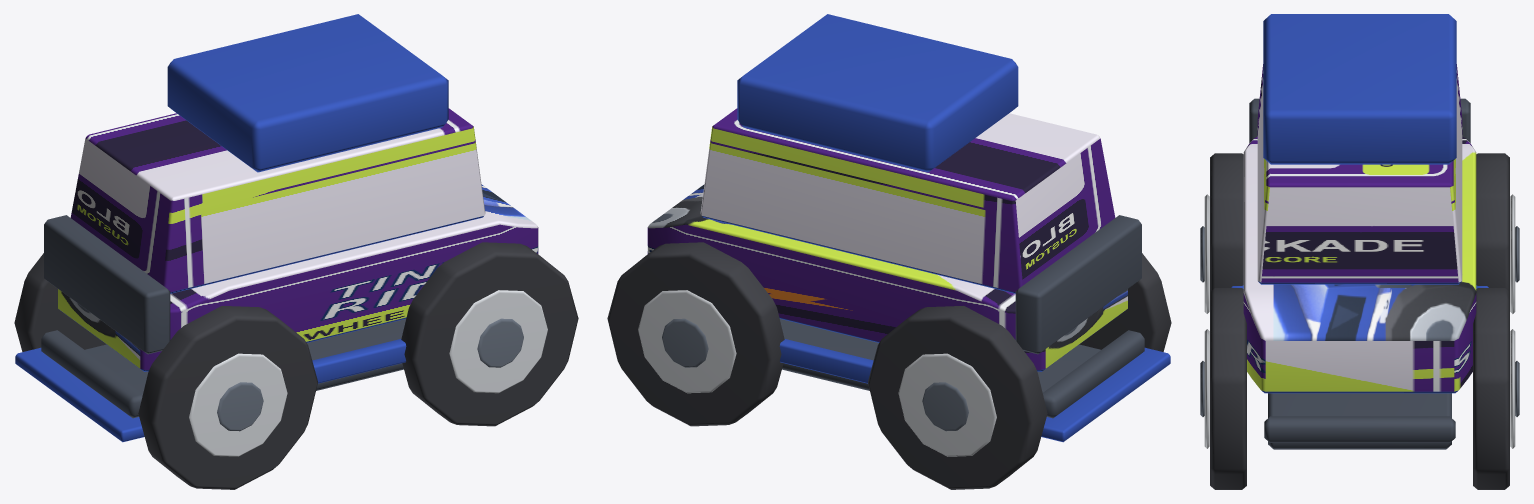
The picture shows the model from 3 angles, left to right: view 1: azimuth 30°, elevation 25°; view 2: azimuth 150°, elevation 25°; view 3: azimuth 270°, elevation 25°; orthographic projection. The views are drawn at different scales.
Visible parts, largest first — view 1: BW-02_cabin, armored roof canopy, BW-02_connected_shell, Tire, Tire.002, armored face guard, Rim, Rim.002, custom chin, underbody, Tire.001, front bumper (+3 smaller); view 2: BW-02_cabin, armored roof canopy, BW-02_connected_shell, Tire.001, Tire.003, armored face guard, Rim.001, Rim.003, custom chin, underbody, Tire, front bumper (+3 smaller); view 3: armored roof canopy, BW-02_connected_shell, BW-02_cabin, Tire.002, Tire.003, underbody, rear bumper, Tire, Tire.001, armored face guard, Rim.002, Rim.003 (+2 smaller).
Part boxes in pixels (x1,y1,x2,y2): BW-02_cabin: (70,108,485,293); armored roof canopy: (167,14,448,172); BW-02_connected_shell: (58,184,538,371); Tire: (138,306,317,489); Tire.002: (401,242,578,426); armored face guard: (44,215,170,354); Rim: (189,353,287,456); Rim.002: (449,290,547,393); custom chin: (15,347,144,442); underbody: (85,319,405,392); Tire.001: (14,253,106,351); front bumper: (41,330,143,418); BW-02_cabin: (700,108,1115,293); armored roof canopy: (737,14,1018,172); BW-02_connected_shell: (647,184,1127,371); Tire.001: (868,306,1047,489); Tire.003: (607,242,784,426); armored face guard: (1015,215,1141,354); Rim.001: (898,353,996,456); Rim.003: (638,290,736,393); custom chin: (1041,347,1170,442); underbody: (780,319,1100,392); Tire: (1079,253,1171,351); front bumper: (1042,330,1144,418); armored roof canopy: (1263,14,1456,164); BW-02_connected_shell: (1243,136,1476,393); BW-02_cabin: (1257,64,1462,284); Tire.002: (1210,288,1246,489); Tire.003: (1473,288,1509,489); underbody: (1268,393,1451,449); rear bumper: (1264,416,1455,442); Tire: (1210,153,1243,291); Tire.001: (1476,153,1509,291); armored face guard: (1249,98,1470,142); Rim.002: (1204,329,1209,448); Rim.003: (1510,329,1515,448).
Bounding box in the file's own units: 381 × 279 × 225.
